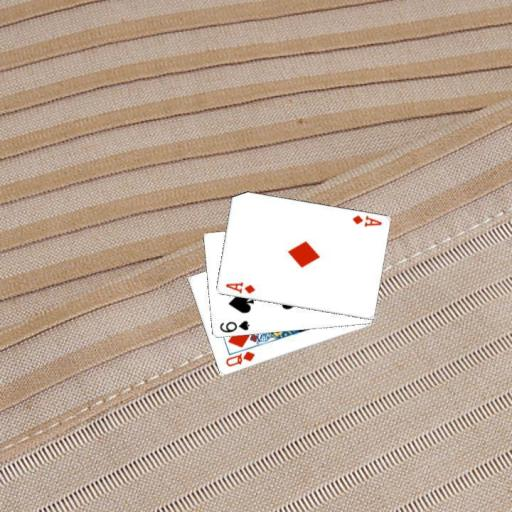6S: (216, 318, 251, 334)
AD: (349, 212, 383, 228), (223, 279, 256, 295)
QD: (223, 349, 256, 369)
